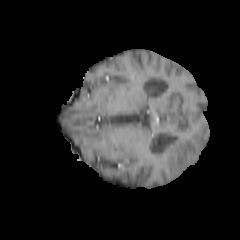glioma: (163, 137, 200, 173)
